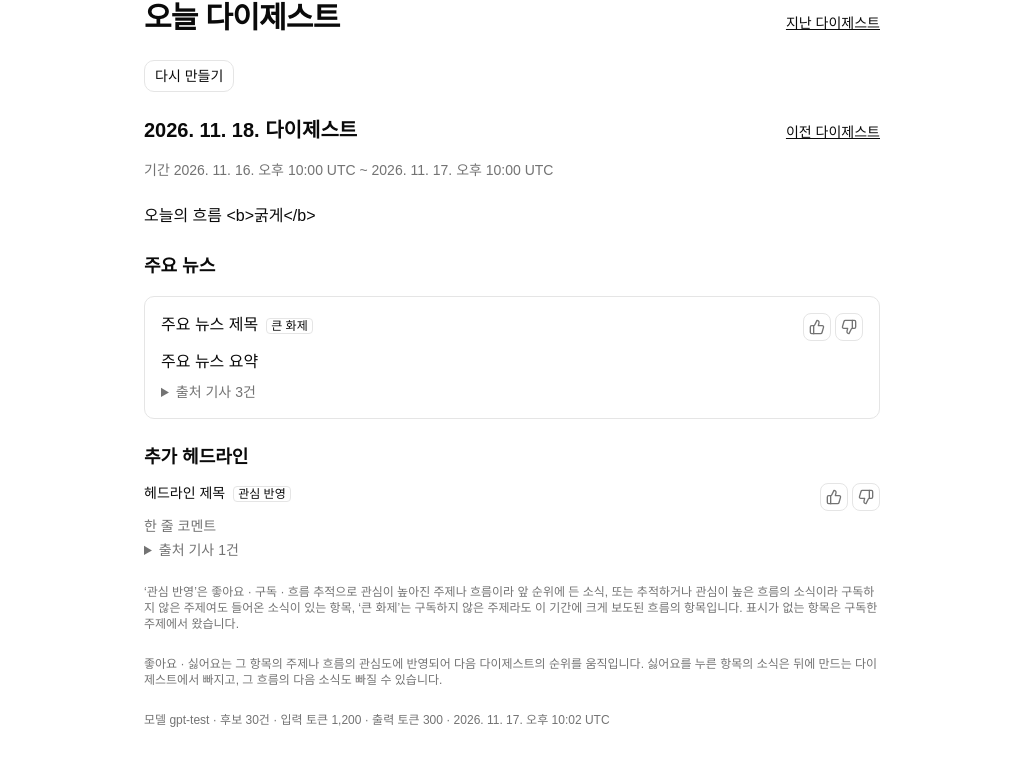
Test: DigestHomePage › 받지 않은 요청은 그 까닭을 알린다 — {"result":"NO_USABLE_MODEL","digestDate":null,"regenerated":null,"resetsAt":null}
This screenshot has width=1024, height=768.
Click the button "다시 만들기".
click(189, 76)  # box [144, 60, 234, 92]
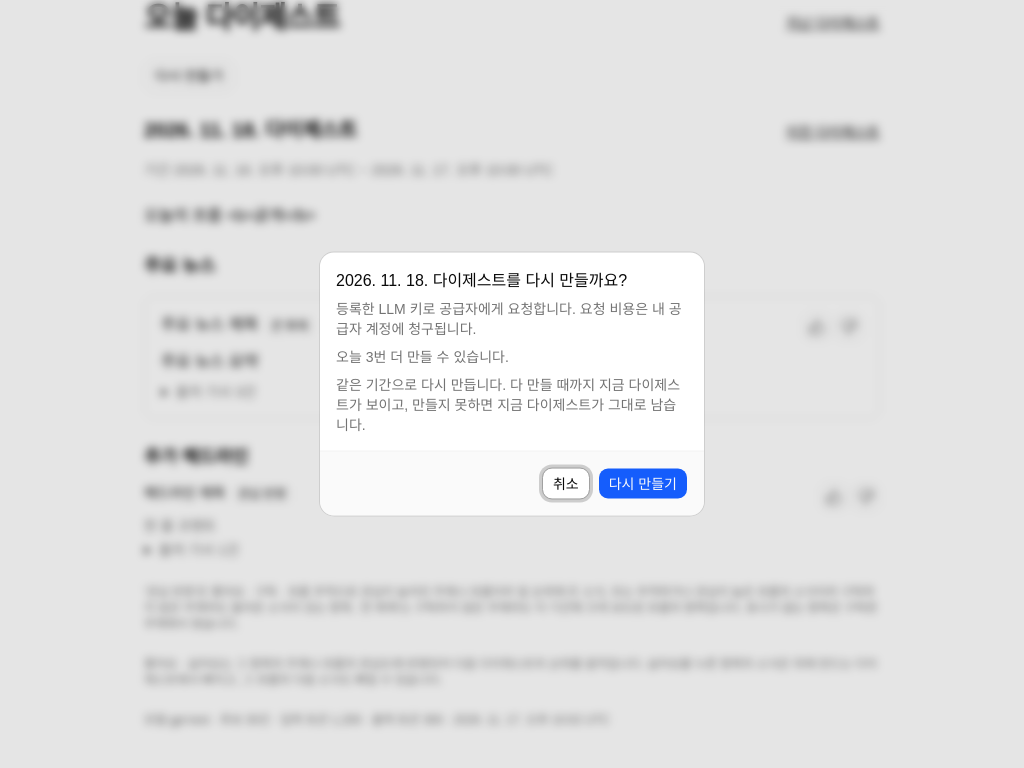
Result: the dialog is shown at [320, 252, 704, 516]
Click the button "다시 만들기".
click(643, 484)  # box [598, 468, 688, 500]
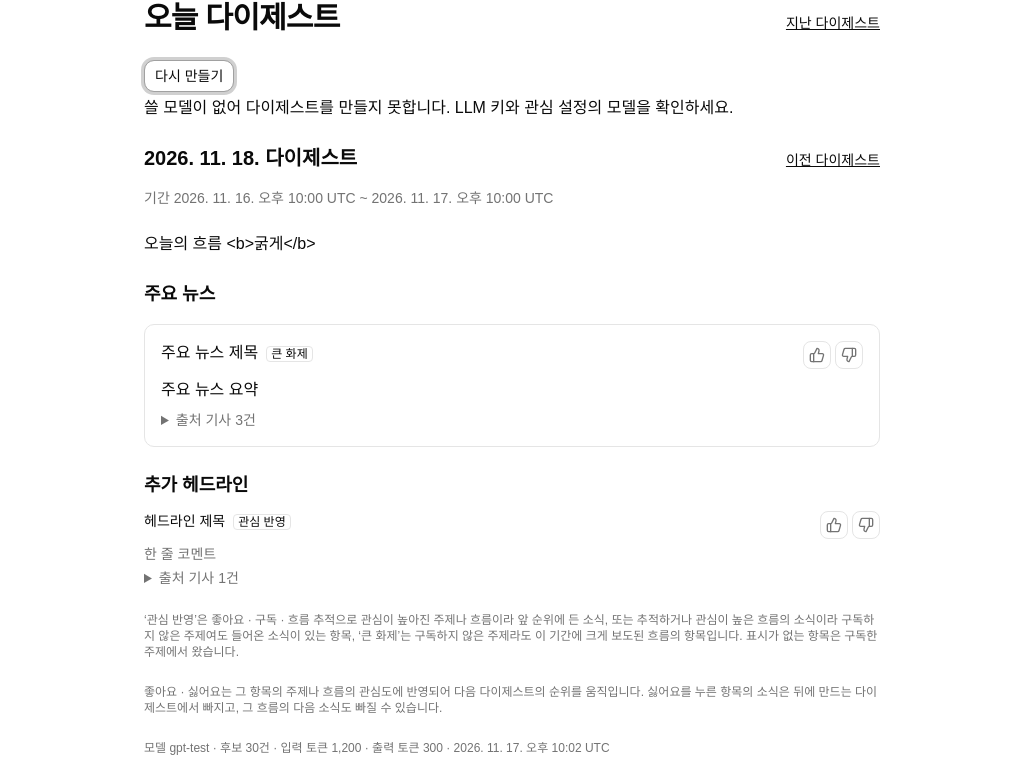
Result: the message reads "쓸 모델이 없어 다이제스트를 만들지 못합니다. LLM 키와 관심 설정의 모델을 확인하세요." at [144, 99, 733, 116]
